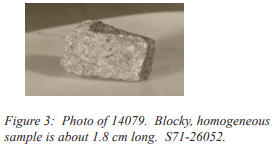Basalt: (62, 14, 162, 81)
